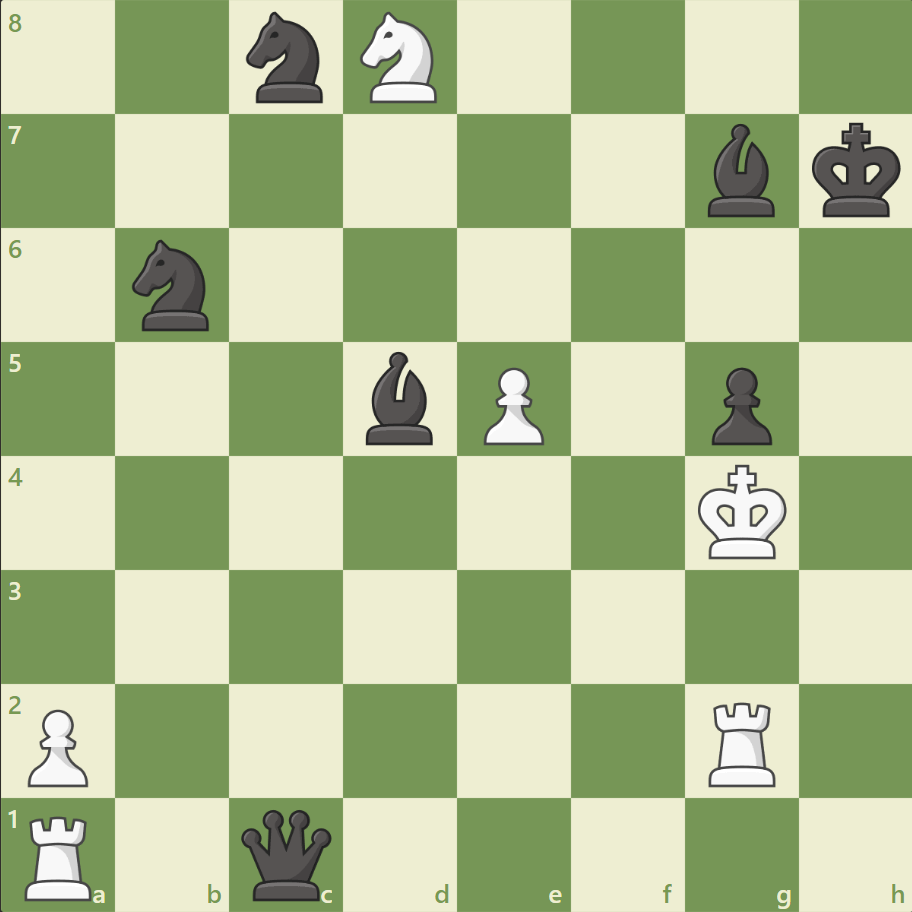K: (692, 458, 792, 566)
N: (351, 7, 449, 110)
P: (474, 359, 549, 450), (20, 700, 95, 791)
R: (19, 806, 102, 904), (700, 693, 783, 790)
b: (698, 120, 782, 222), (358, 347, 442, 449)
k: (806, 117, 906, 225)
n: (124, 234, 222, 337), (238, 7, 335, 110)
p: (701, 359, 776, 450)
q: (237, 804, 336, 903)
